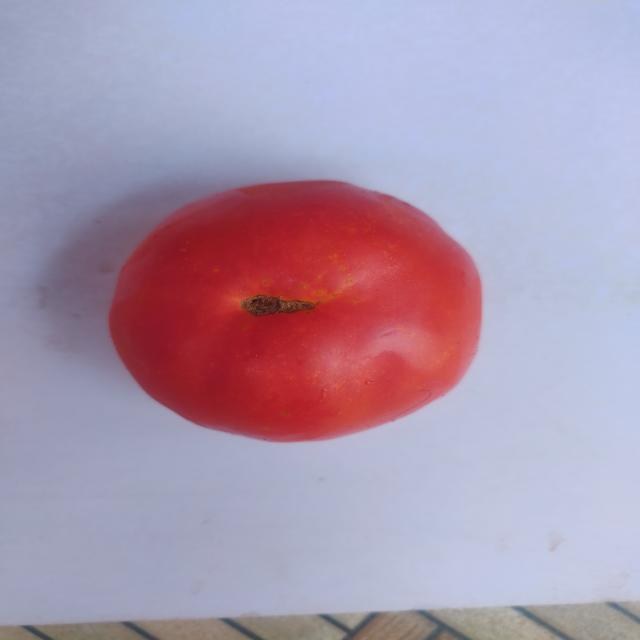Tomato: (93, 168, 523, 460)
